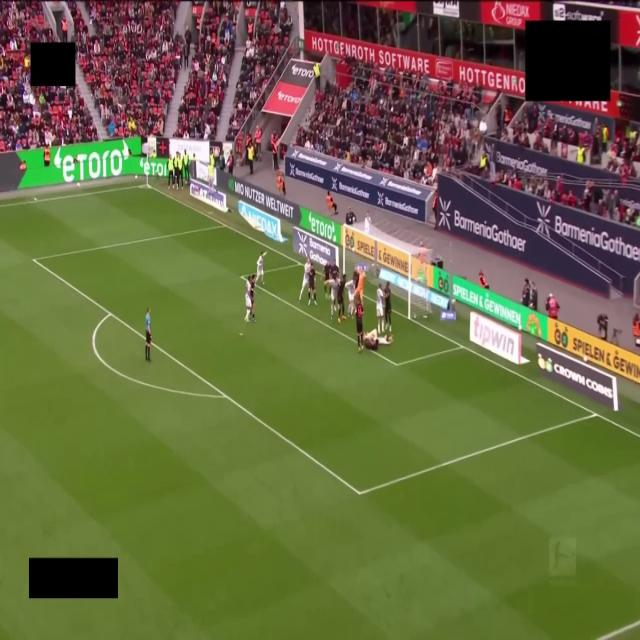player: (326, 275, 340, 321), (364, 329, 392, 351), (299, 259, 311, 303), (337, 274, 346, 322), (245, 275, 254, 321), (355, 300, 363, 351), (376, 283, 384, 333), (345, 279, 355, 316), (355, 268, 365, 304), (308, 262, 316, 304), (256, 252, 266, 284), (385, 282, 391, 331), (324, 263, 331, 299), (251, 275, 255, 322), (330, 264, 339, 279)
referee: (145, 308, 151, 361)
